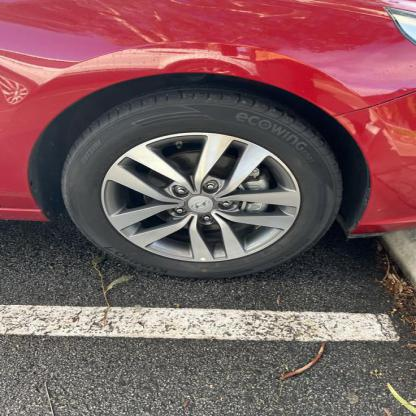Tire: (62, 87, 343, 278)
